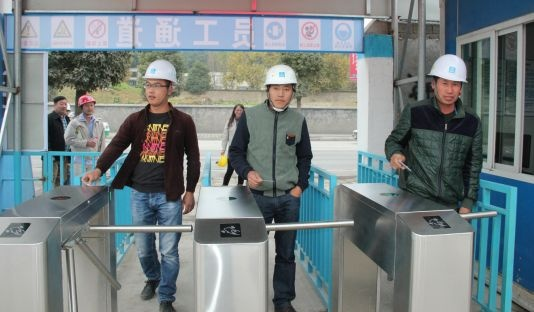none: (53, 94, 67, 113), (231, 103, 244, 119)
red: (77, 93, 96, 114)
white: (428, 54, 470, 106), (141, 57, 177, 109), (264, 64, 296, 111)
